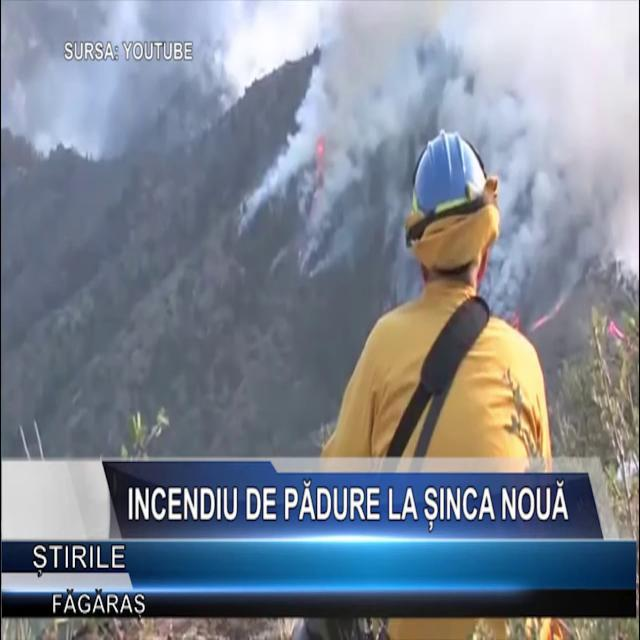Smoke: (254, 1, 638, 288)
